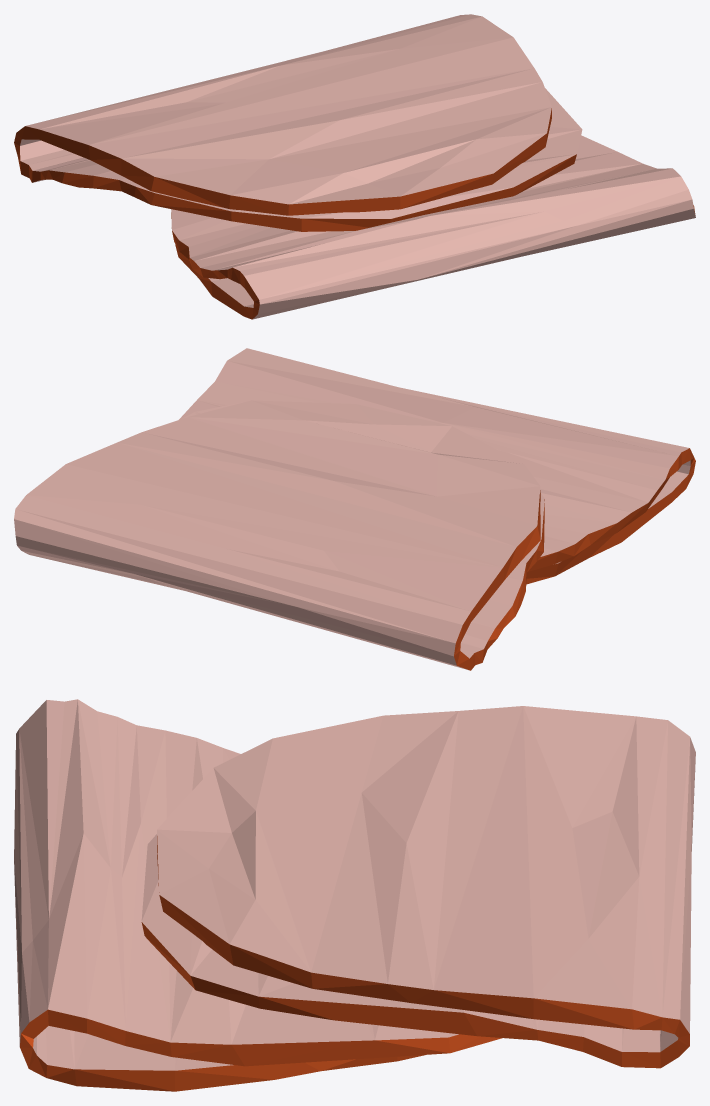
File: ham.fbx
3 renders of one model, top to bottom at view 1: azimuth 30°, elevation 25°; view 2: azimuth 150°, elevation 25°; view 3: azimuth 270°, elevation 25°, orthographic. The views are drawn at different scales.
Parts seen in each view (by area): view 1: Ham 2; view 2: Ham 2; view 3: Ham 2.
Part boxes in pixels (box(x1,y1,x2,y2)): Ham 2: box(14, 14, 695, 319); Ham 2: box(14, 348, 695, 670); Ham 2: box(14, 699, 695, 1091).
Bounding box in the file's own units: 102 × 15.55 × 94.23.
